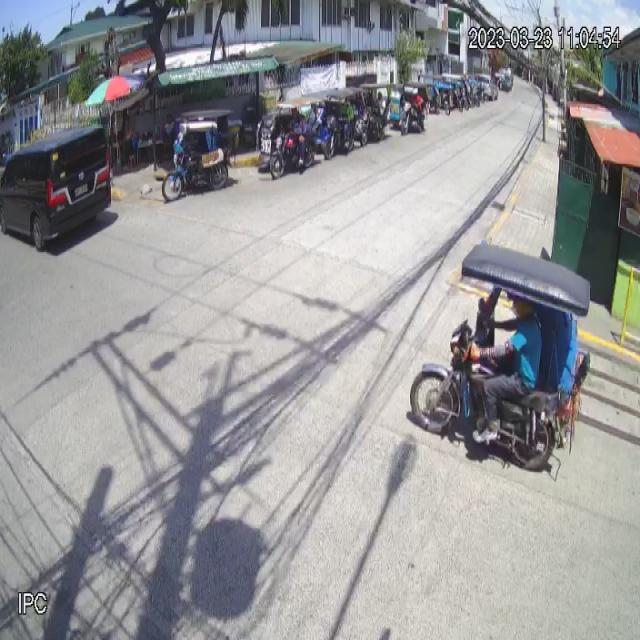Tricycle: (409, 239, 592, 469), (161, 108, 240, 203)
Van: (0, 124, 111, 253)
